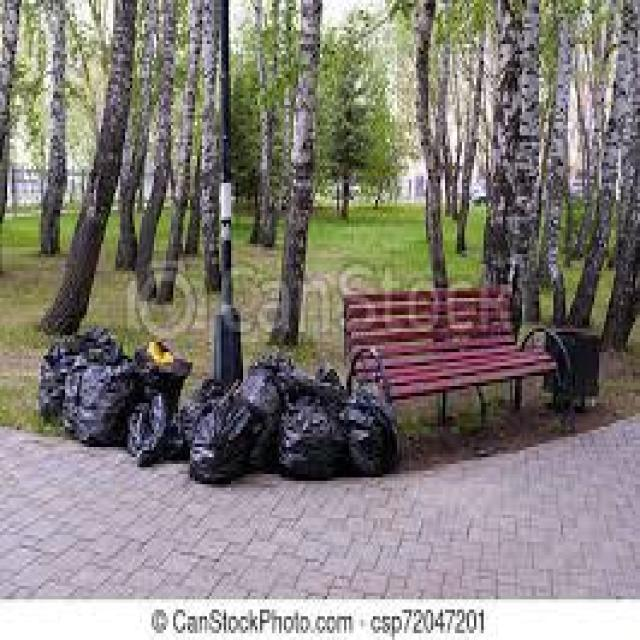Trashbag: (188, 395, 262, 486), (80, 355, 139, 443), (285, 399, 346, 478), (36, 340, 88, 432), (129, 392, 179, 468), (351, 393, 396, 468)
